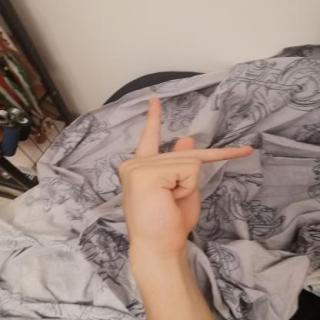DHAA: (105, 86, 260, 258)
